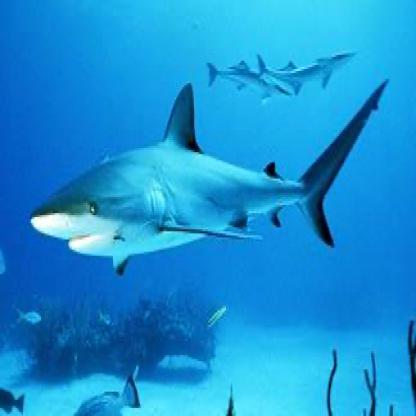Shark -Selachimorpha-: (26, 78, 393, 281)
